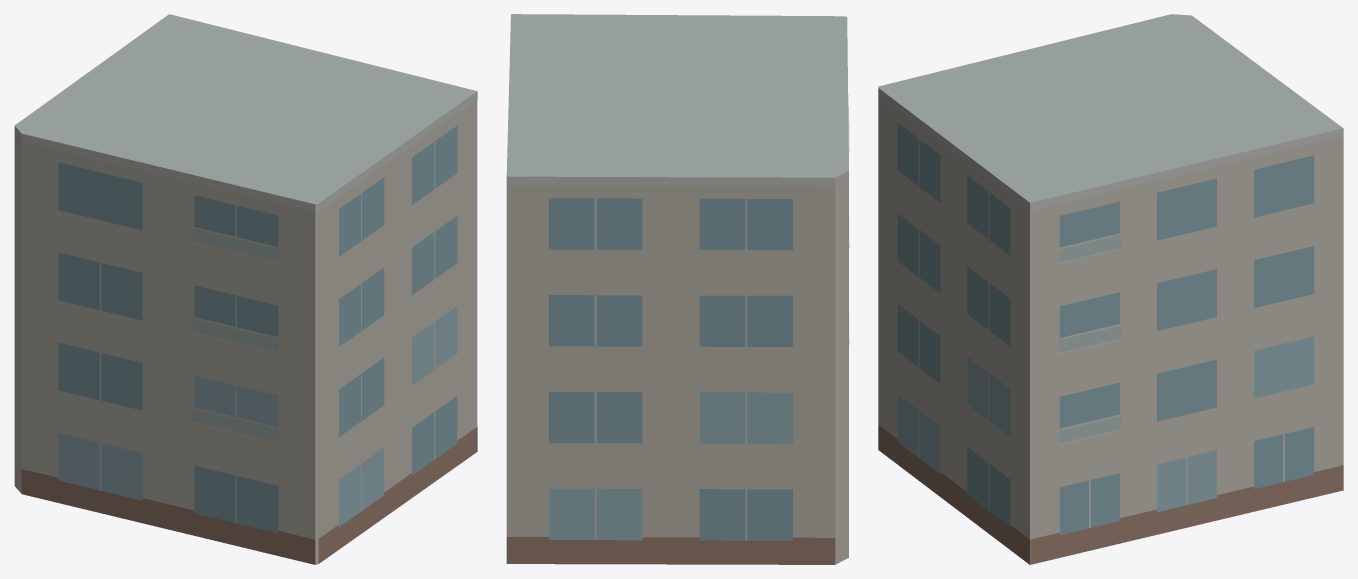
The model's file is survey-upis-32584815.glb.
The picture shows the model from 3 angles, left to right: view 1: azimuth 30°, elevation 25°; view 2: azimuth 150°, elevation 25°; view 3: azimuth 270°, elevation 25°; orthographic projection. The views are drawn at different scales.
Visible parts, largest first — view 1: survey-upis-32584815.tmp; view 2: survey-upis-32584815.tmp; view 3: survey-upis-32584815.tmp.
Part boxes in pixels (x1=…): survey-upis-32584815.tmp: x1=14, y1=14, x2=477, y2=564; survey-upis-32584815.tmp: x1=506, y1=14, x2=849, y2=564; survey-upis-32584815.tmp: x1=878, y1=14, x2=1343, y2=564.
Size of the model in its own units: 12.31 by 11 by 12.82.
